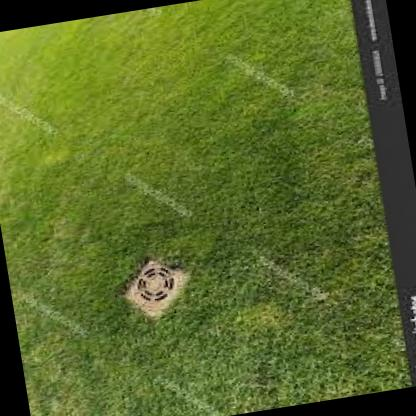manholes: (110, 241, 213, 325)
